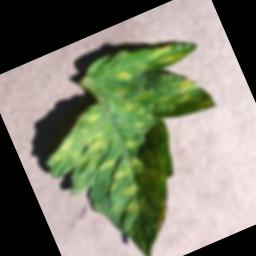Leaf_Mold: (17, 20, 256, 256)
